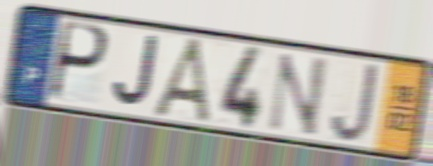4: (217, 42, 265, 132)
A: (149, 35, 217, 128)
J: (328, 60, 381, 145), (110, 33, 160, 112)
N: (264, 50, 330, 139)
P: (45, 18, 112, 105)
